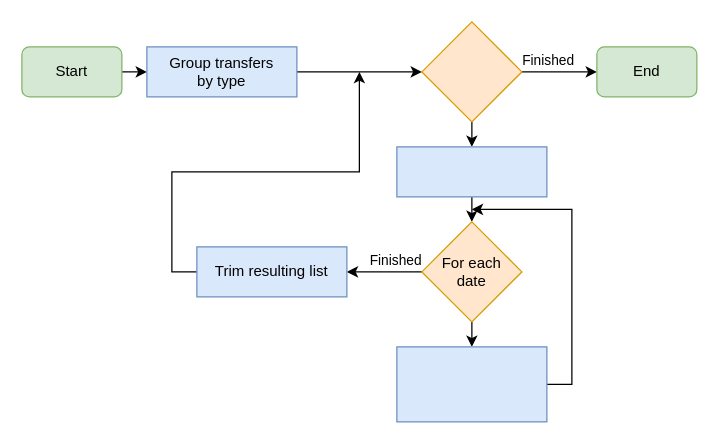
The diagram is 719 pixels wide and 444 high, and some of its shapes have lost their labels. The box of each missing label's shape, as (x1, y1, x2, y2) in pixels:
Calculate (sum, count) for incomes and expenses: (396, 346, 547, 422)
For each type: (421, 21, 522, 122)
Group transfers by normalized date: (396, 146, 547, 197)
